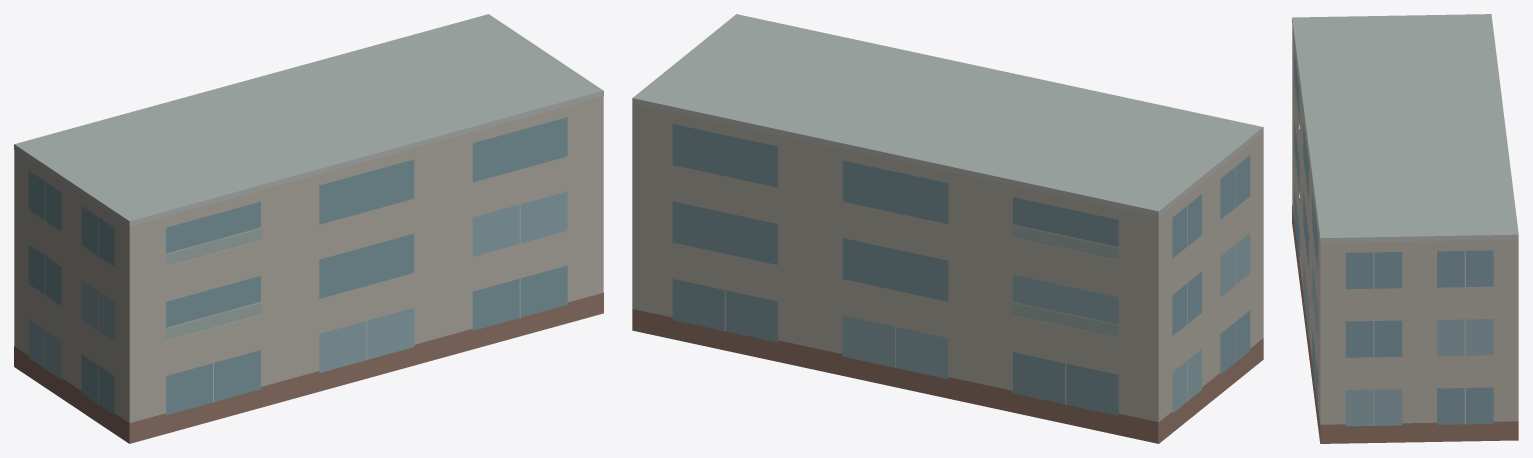
File: survey-upis-32709059.glb
3 views of the same model, side by side, from view 1: azimuth 30°, elevation 25°; view 2: azimuth 150°, elevation 25°; view 3: azimuth 270°, elevation 25° (orthographic). The views are drawn at different scales.
Parts seen in each view (by area): view 1: survey-upis-32709059.tmp; view 2: survey-upis-32709059.tmp; view 3: survey-upis-32709059.tmp.
Part boxes in pixels (bbox=[...]): survey-upis-32709059.tmp: bbox=[14, 14, 603, 443]; survey-upis-32709059.tmp: bbox=[632, 14, 1263, 443]; survey-upis-32709059.tmp: bbox=[1292, 14, 1518, 443].
Size of the model in its own units: 23.84 by 10.2 by 10.19.
